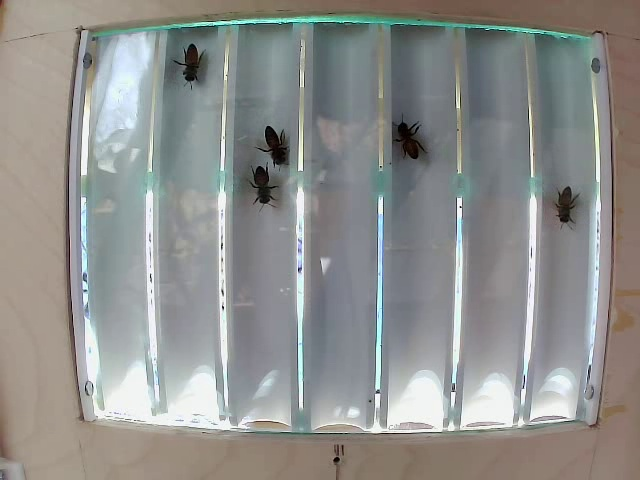bee: (238, 153, 275, 212), (260, 123, 300, 173), (381, 121, 422, 159), (174, 48, 211, 84), (551, 190, 574, 219)
